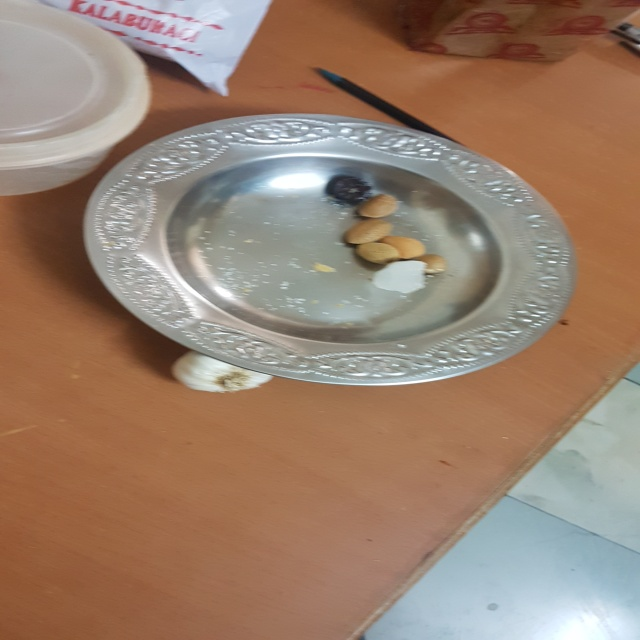garlic: (165, 344, 282, 397)
